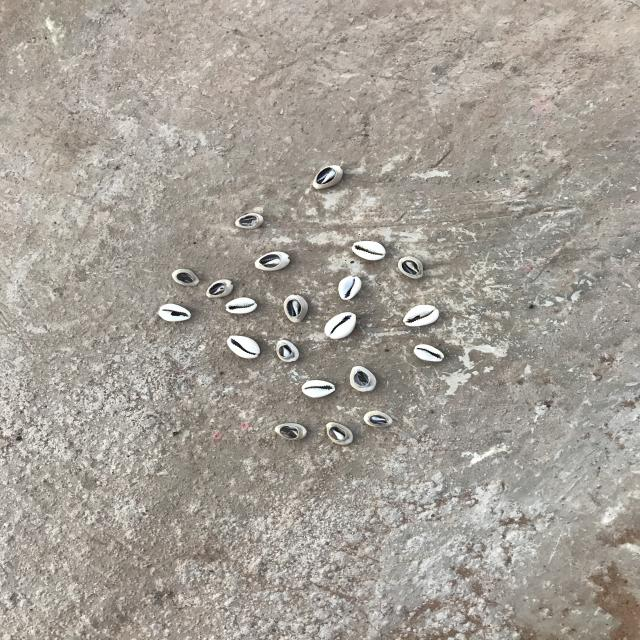facedown: (252, 250, 292, 273), (308, 164, 344, 189), (348, 364, 378, 394), (397, 254, 427, 281), (283, 295, 310, 324), (324, 421, 355, 446), (272, 422, 308, 442), (233, 212, 268, 232), (171, 265, 201, 288), (277, 337, 301, 363), (362, 410, 393, 430), (206, 279, 235, 298)
faceup: (322, 310, 358, 341), (399, 303, 442, 327), (225, 333, 261, 360), (154, 302, 193, 326), (349, 238, 387, 262), (411, 340, 446, 364), (302, 379, 338, 399), (337, 275, 364, 301), (226, 297, 257, 316)
